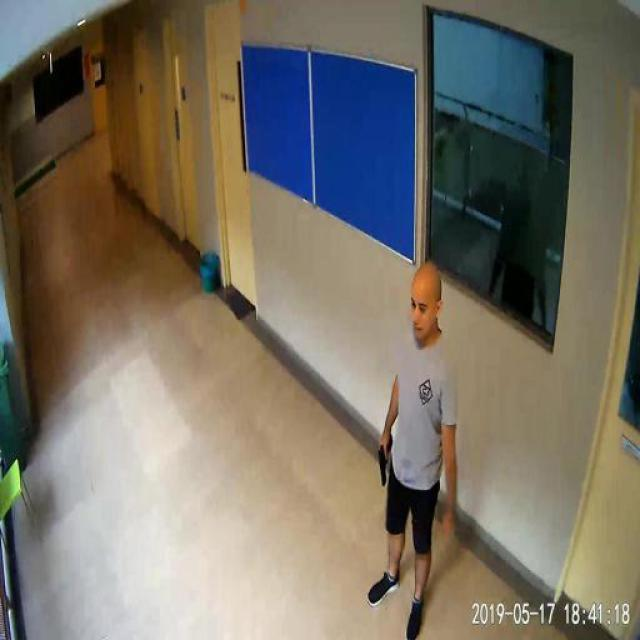weapon: (376, 434, 394, 486)
